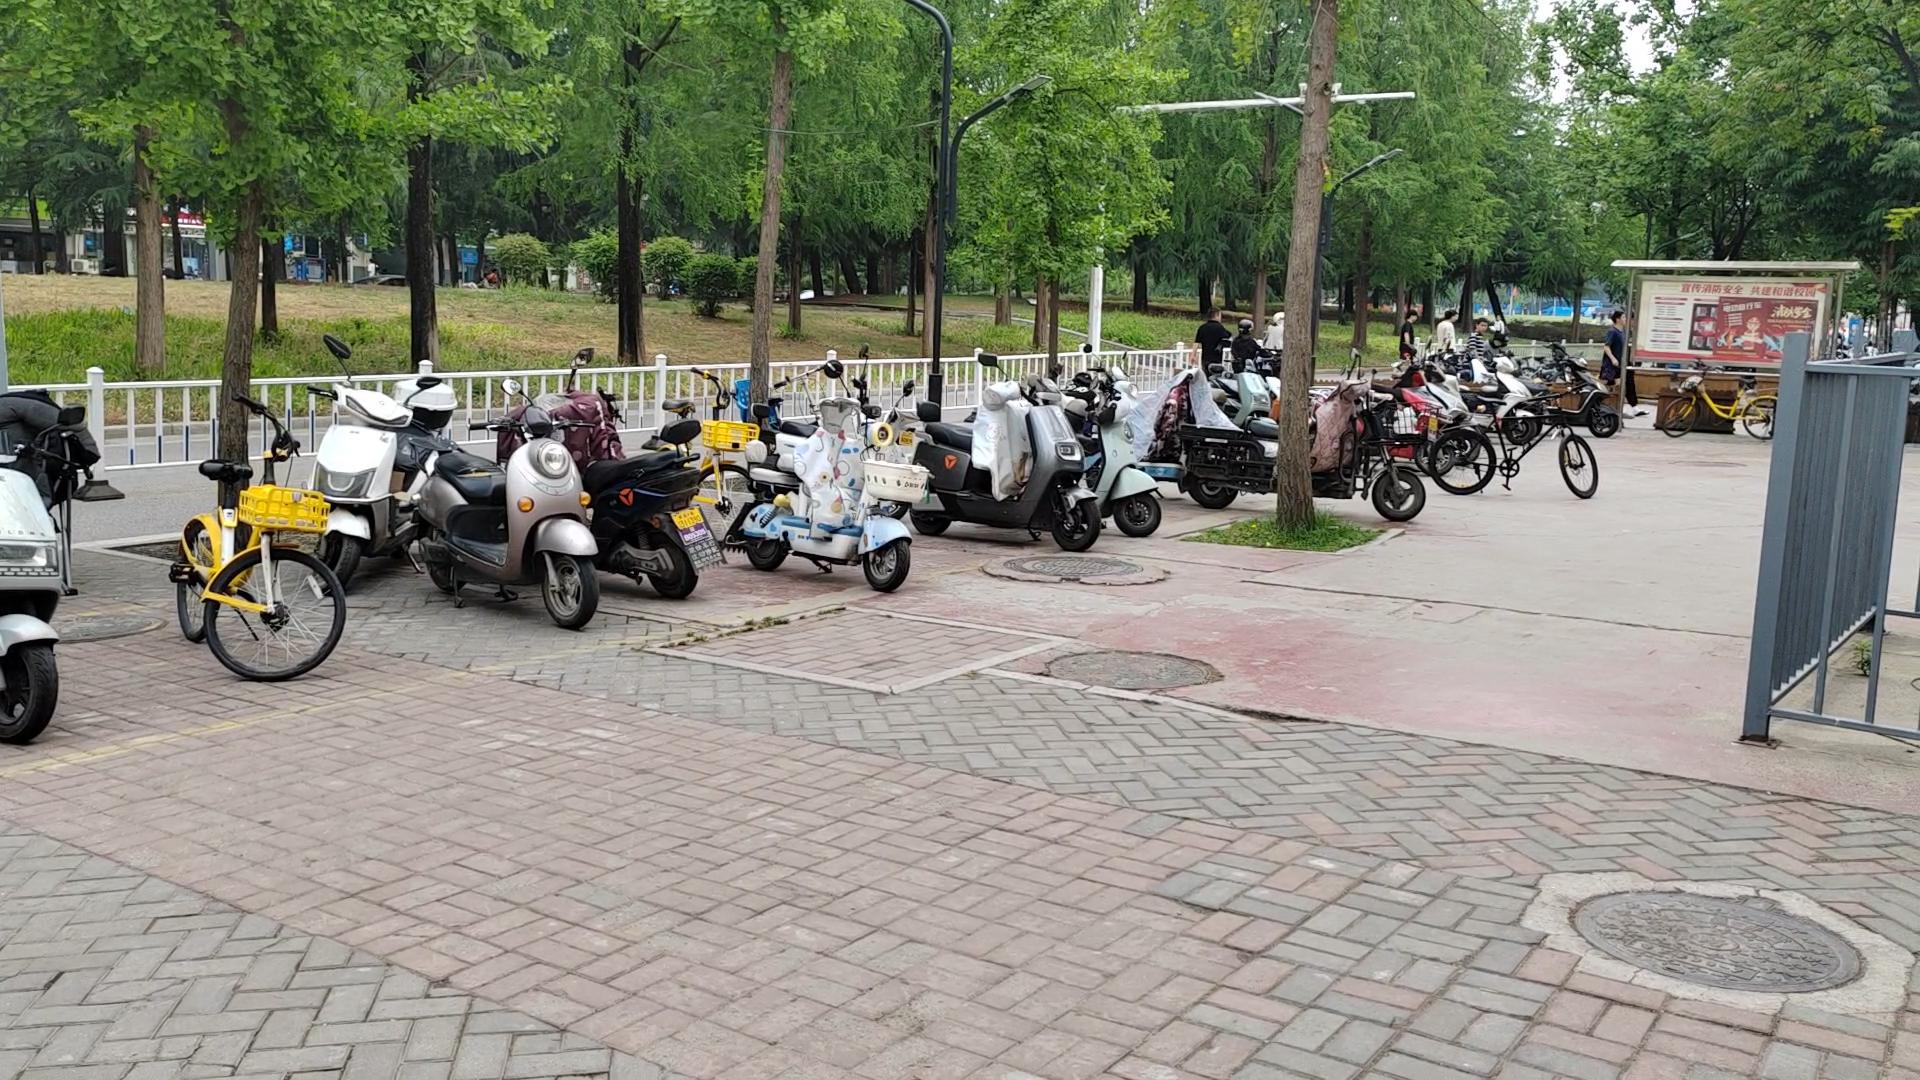others: (920, 324, 1106, 574), (425, 382, 601, 632), (757, 353, 928, 593), (1189, 361, 1414, 542), (313, 334, 454, 593), (549, 352, 684, 621), (1436, 372, 1601, 512), (1654, 338, 1792, 469)
shared_bike_meituan: (164, 397, 357, 698), (655, 352, 752, 549)
